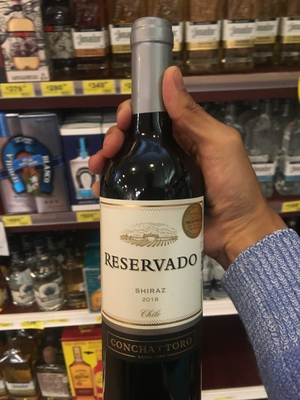reservado shiraz: (99, 18, 209, 400)
